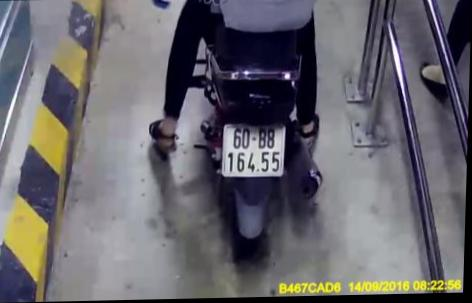LP: (220, 122, 289, 181)
